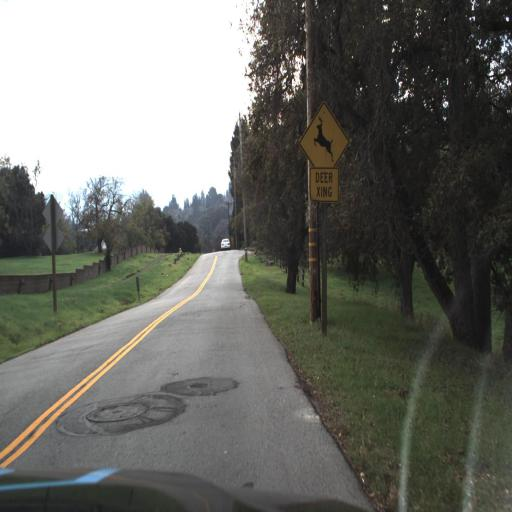car: (215, 233, 233, 254)
